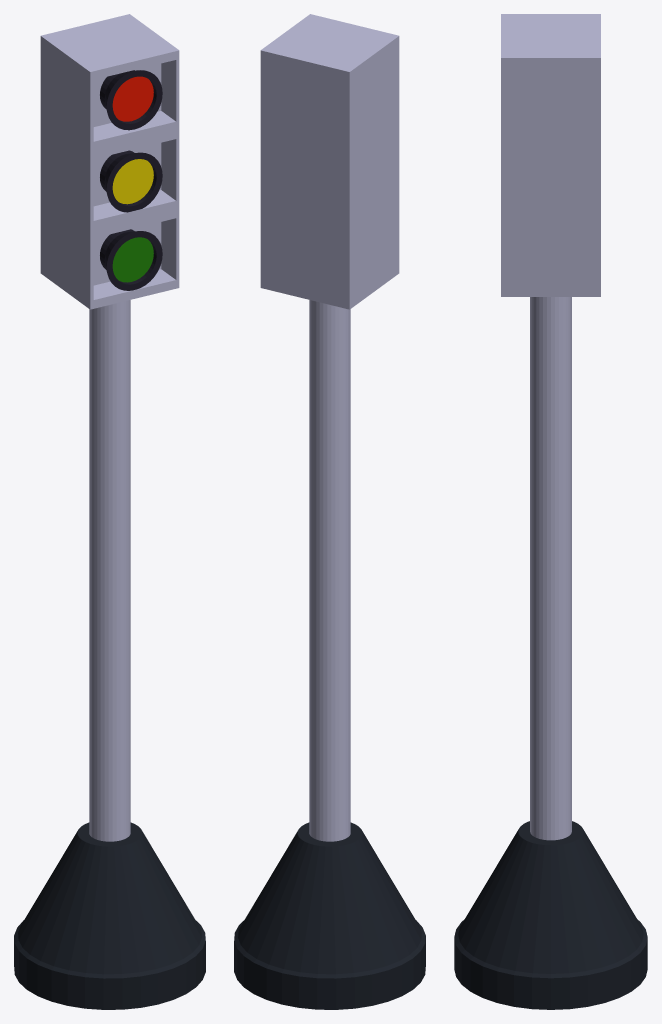
The model's file is maforo level 2.fbx.
3 views of the same model, side by side, from view 1: azimuth 30°, elevation 25°; view 2: azimuth 150°, elevation 25°; view 3: azimuth 270°, elevation 25° (orthographic).
Parts seen in each view (by area): view 1: Cube; view 2: Cube; view 3: Cube.
Boxes of the visible parts, x1,y1,x2,y2 form: Cube: [14, 14, 205, 1009]; Cube: [234, 14, 425, 1009]; Cube: [454, 14, 647, 1009].
Bounding box in the file's own units: 172 × 915 × 172.
